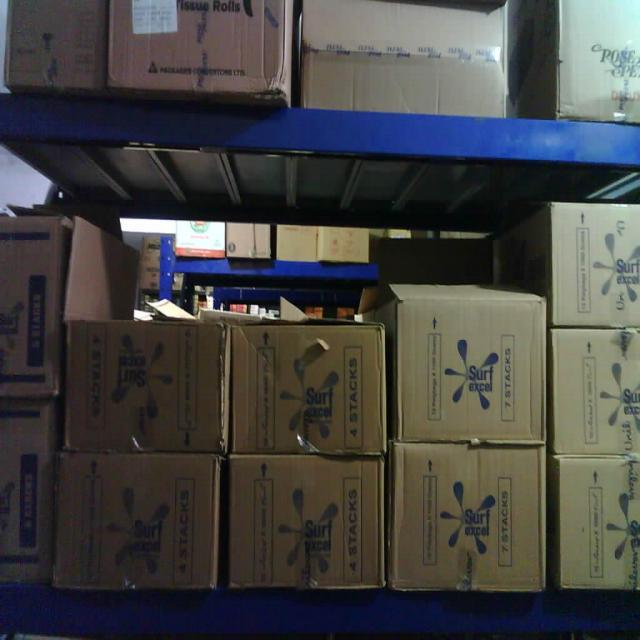cardboxes: (392, 285, 546, 448), (387, 442, 550, 592), (60, 314, 232, 454), (297, 0, 510, 111), (224, 318, 390, 458), (56, 450, 220, 591), (225, 453, 390, 592), (107, 0, 293, 100), (550, 324, 640, 458), (549, 199, 640, 331), (556, 452, 640, 592), (556, 0, 640, 119), (5, 0, 110, 93)
